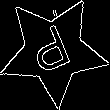P_SE: (27, 20, 80, 81)
